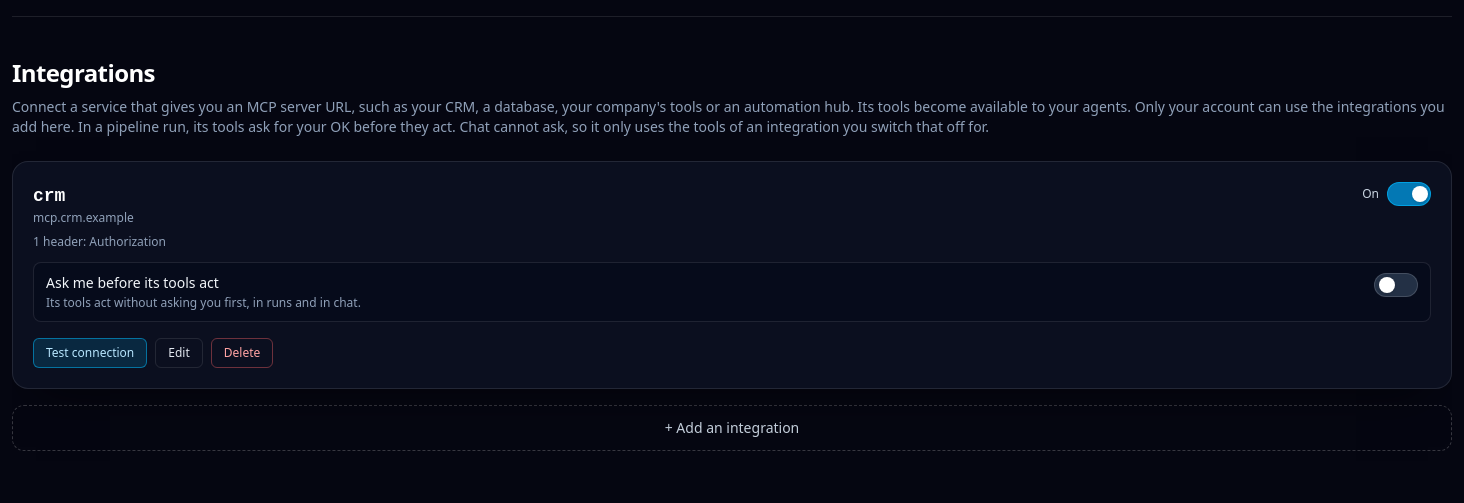
an integration asks before its tools act › switches back on
The image size is (1464, 503).
Click the switch named "Ask me before its tools act".
click(1396, 285)  # box top-left (1374, 273), bottom-right (1418, 297)
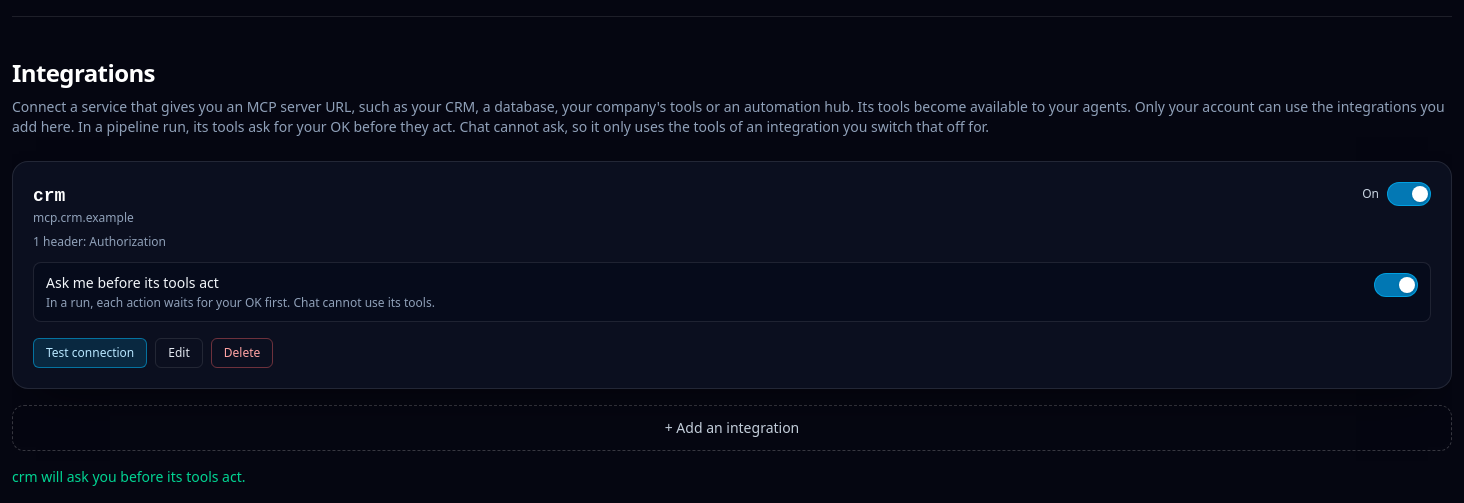
Expected: the switch named "Ask me before its tools act" is checked, top-left (1374, 273), bottom-right (1418, 297)
Expected: the text "crm will ask you before its tools act." is shown, top-left (12, 467), bottom-right (246, 486)
